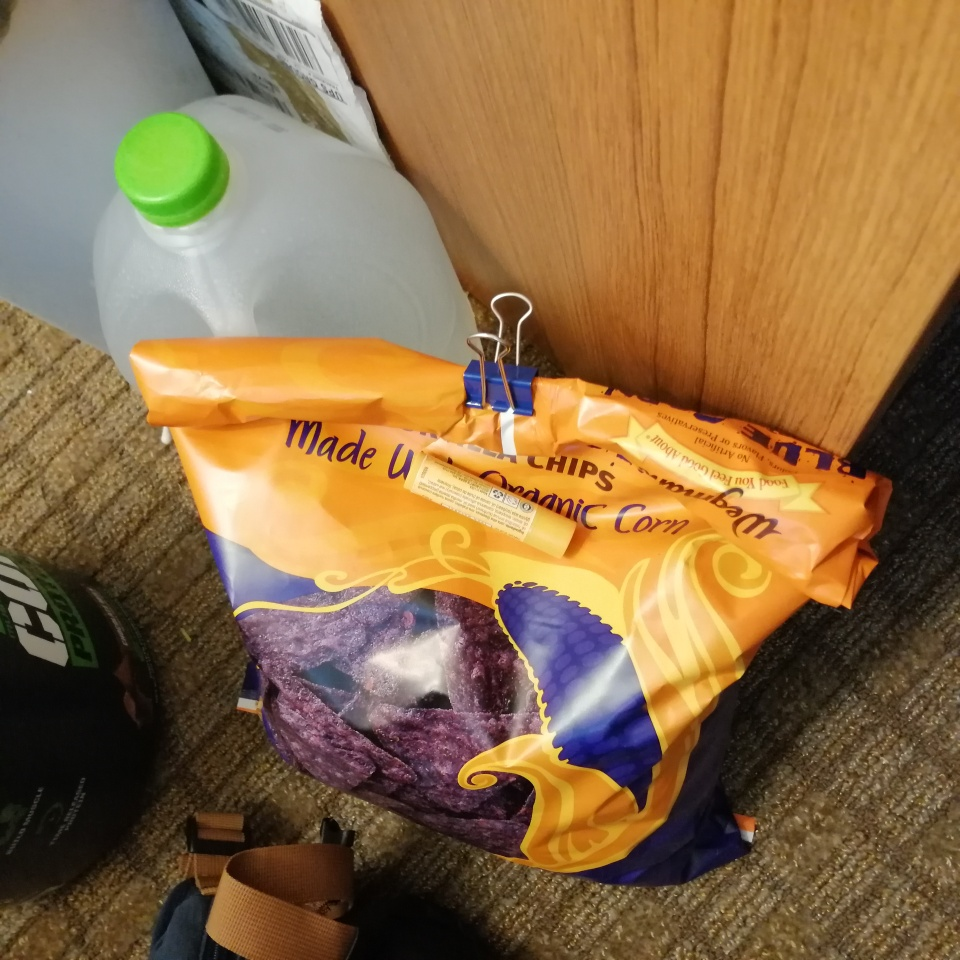chapstick: (403, 451, 578, 561)
